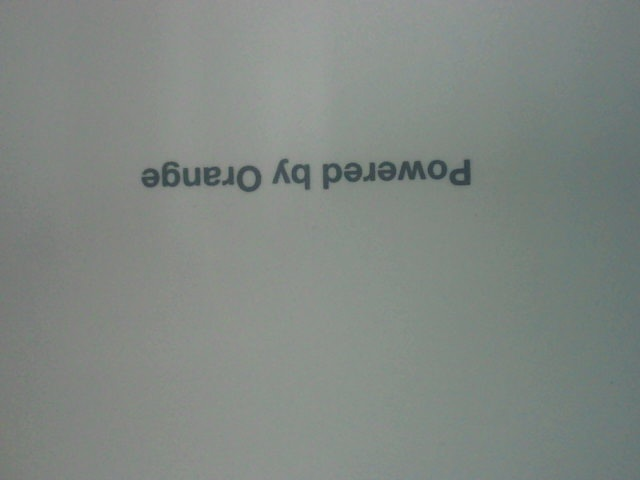AS_PowerByOrange: (96, 138, 479, 202)
